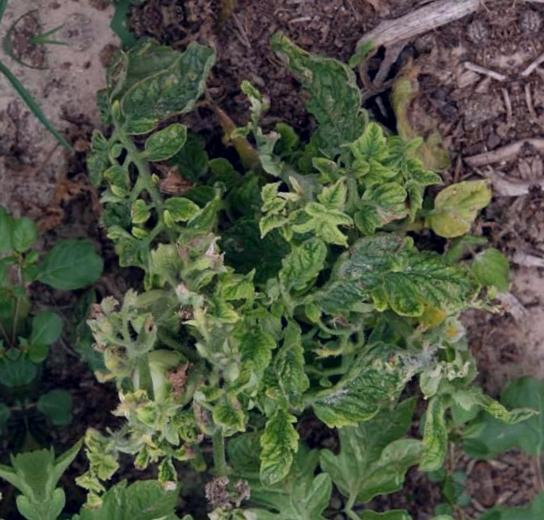Tomato leaf yellow virus: (353, 228, 493, 327), (298, 331, 408, 431), (280, 21, 368, 128), (217, 302, 287, 385), (248, 402, 302, 485), (266, 233, 337, 296), (129, 110, 199, 168), (339, 113, 395, 173), (201, 261, 259, 300), (154, 188, 205, 225), (317, 176, 349, 214), (120, 197, 154, 232)
